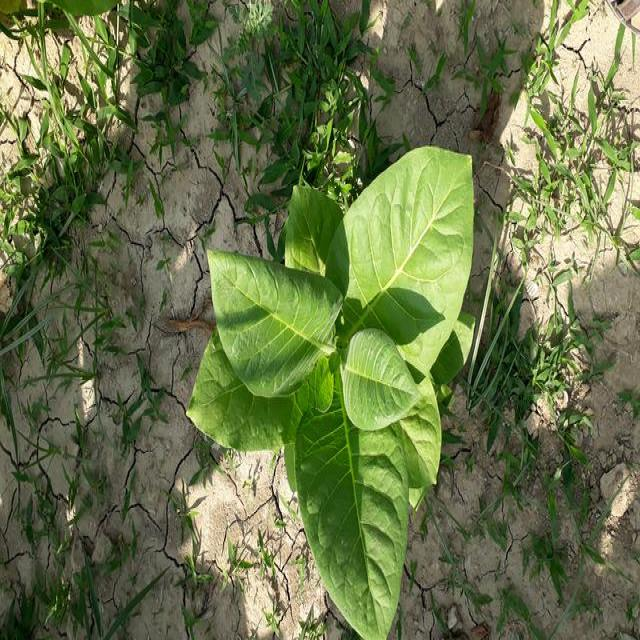crop: (191, 144, 473, 637)
